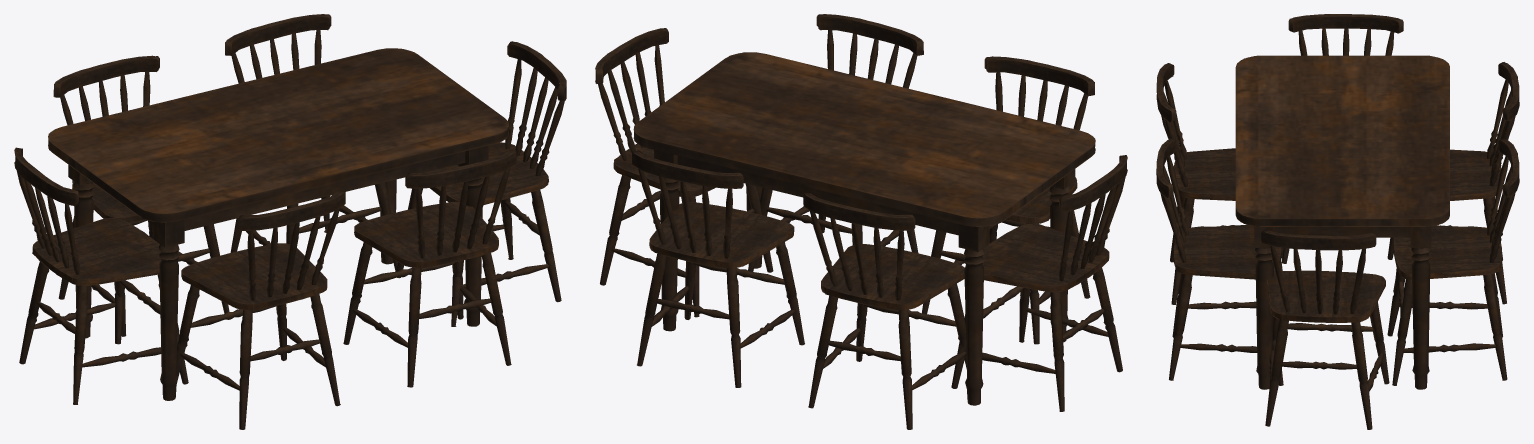
File: table-and-chairs-2aee19.glb
3 renders of one model, left to right at view 1: azimuth 30°, elevation 25°; view 2: azimuth 150°, elevation 25°; view 3: azimuth 270°, elevation 25°, orthographic. The views are drawn at different scales.
Visible parts, largest first — view 1: PropMesh; view 2: PropMesh; view 3: PropMesh.
Part boxes in pixels (left/top/right/bottom): PropMesh: left=14, top=14, right=566, bottom=429; PropMesh: left=595, top=14, right=1127, bottom=429; PropMesh: left=1156, top=14, right=1519, bottom=429.
Size of the model in its own units: 2.07 by 0.8453 by 1.42.
2 materials, 2 textured.
